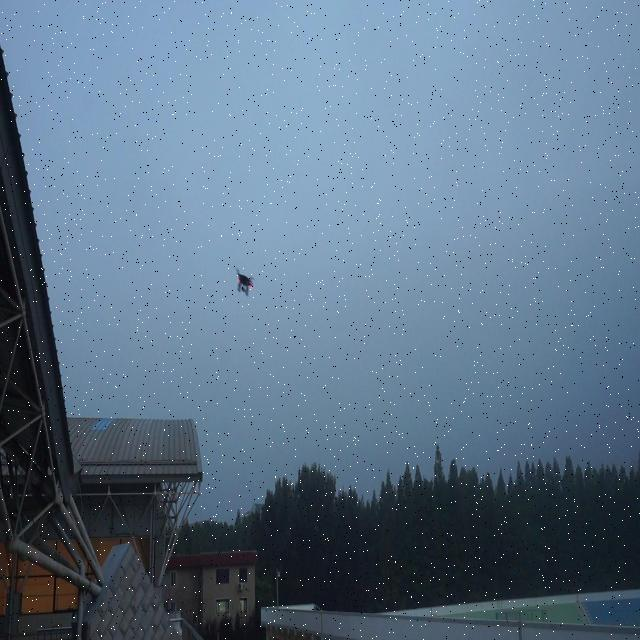UAV: (236, 268, 254, 297)
